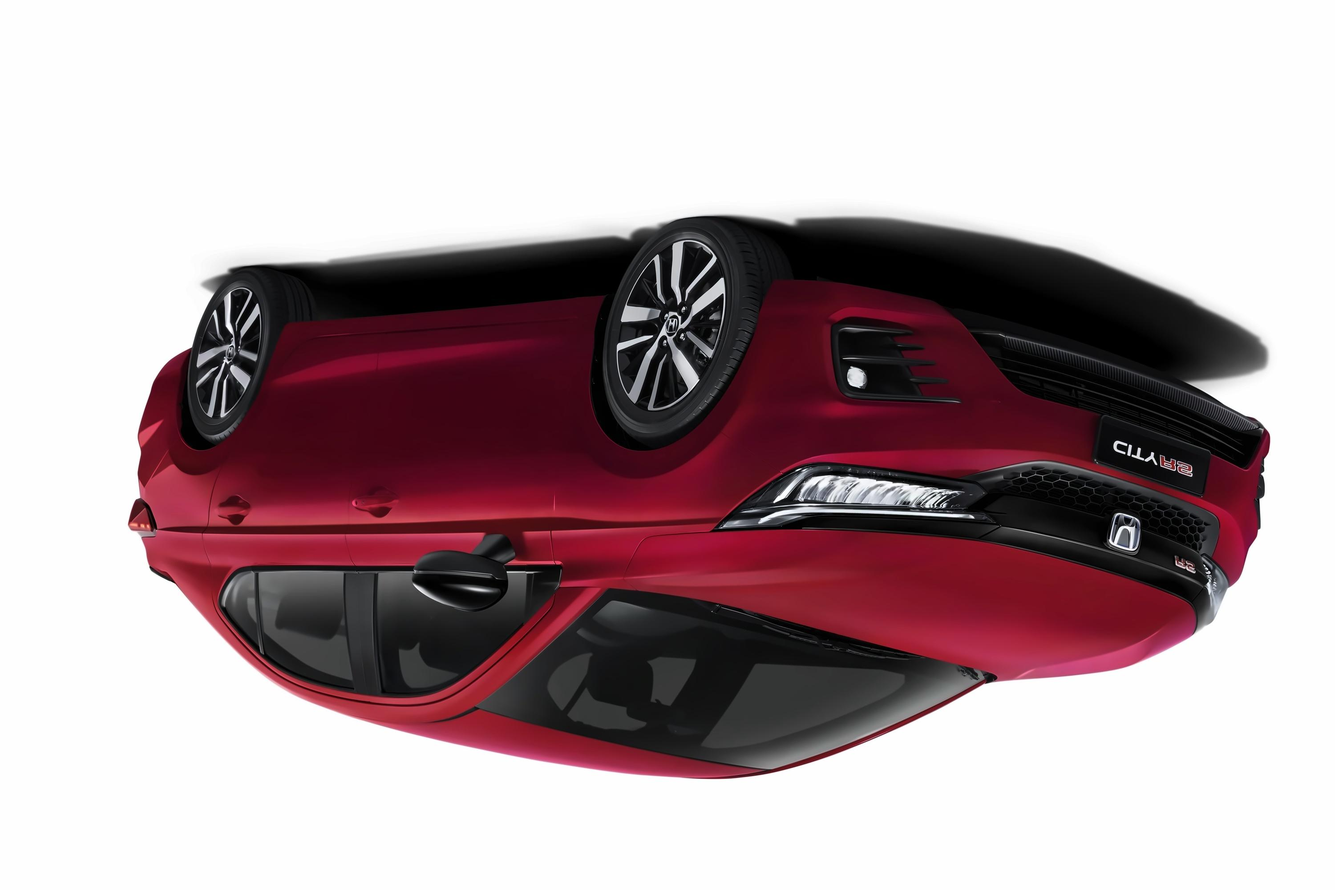Car hood: (623, 522, 1196, 682)
Fender - -F-L-: (559, 273, 769, 591)
Fender - -R-L-: (140, 331, 283, 607)
Front bumper: (726, 263, 1277, 574)
Headlight - -L-: (705, 463, 993, 537)
Passenger-s door - -F-L-: (355, 266, 600, 720)
Passenger-s door - -R-L-: (189, 271, 381, 728)
Side bumper - -L-: (261, 270, 608, 381)
Side mirror - -L-: (413, 531, 516, 609)
